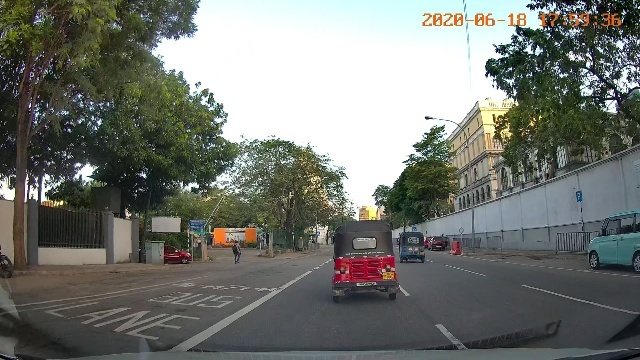BL: (37, 290, 248, 343)
